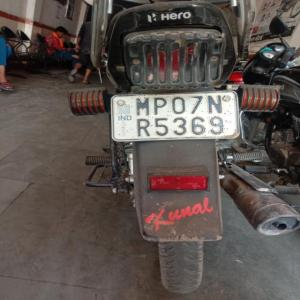Plate: (115, 93, 235, 138)
